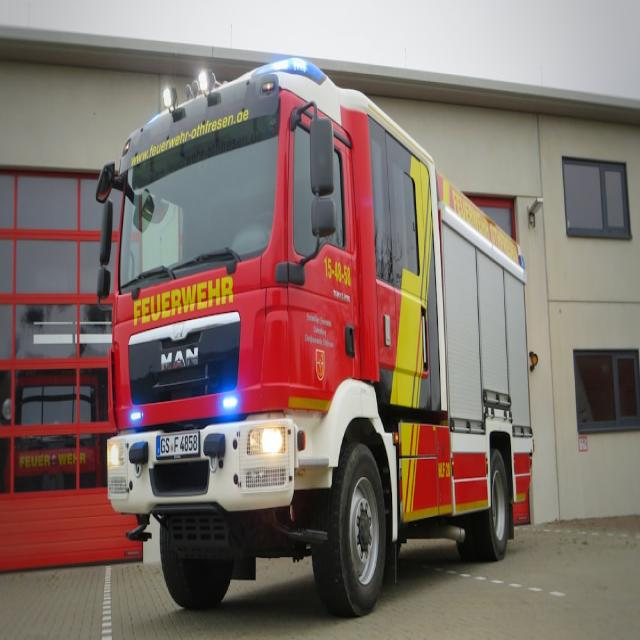emergency: (96, 58, 535, 614)
